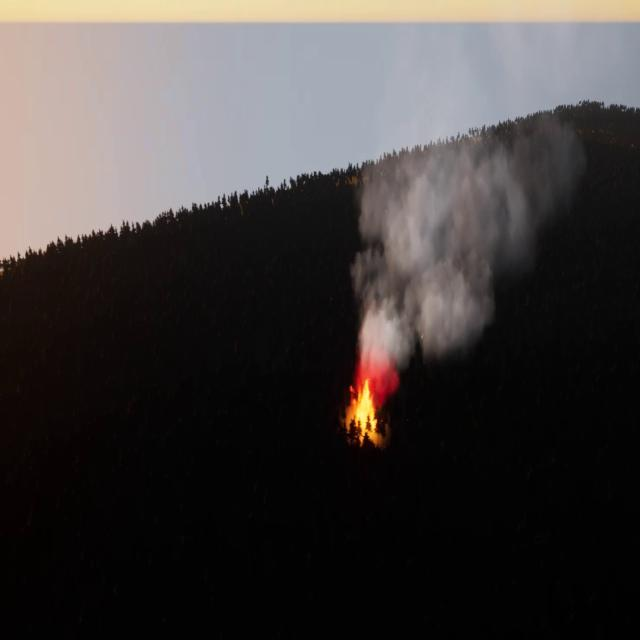fire: (349, 377, 385, 435)
smoke: (352, 104, 586, 384)
